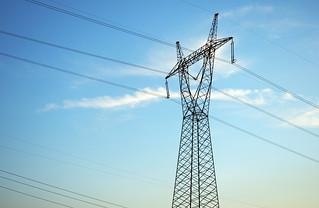power_tower: (156, 10, 236, 208)
